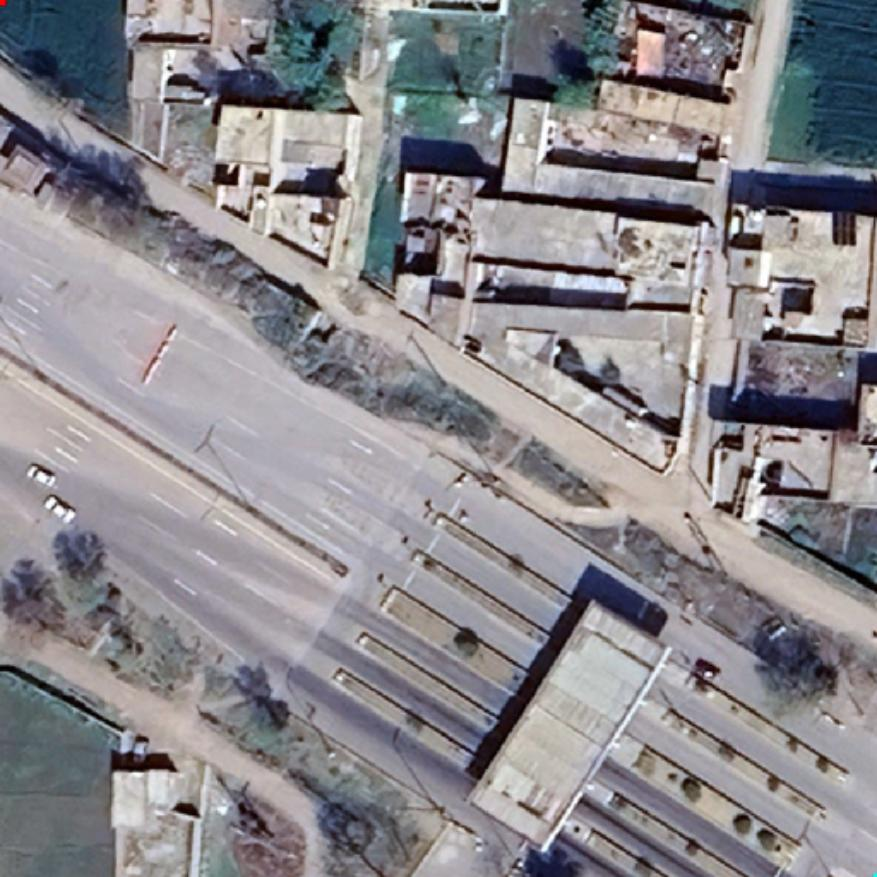Solarpanel: (831, 208, 859, 248)
